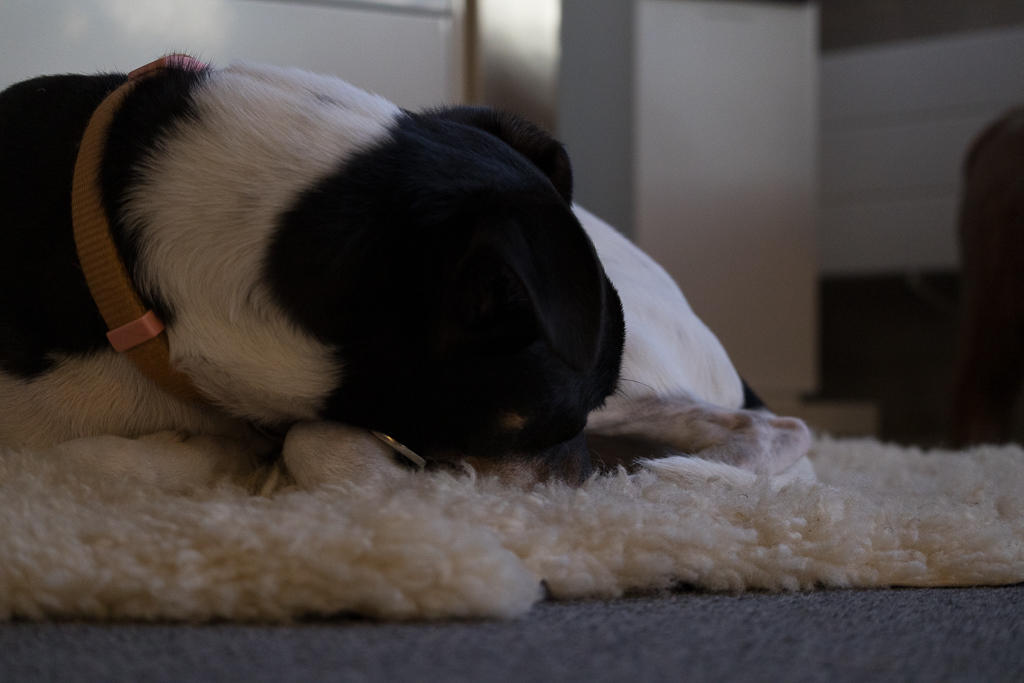Cattle: (933, 98, 1024, 457)
Dog: (0, 43, 828, 508)
